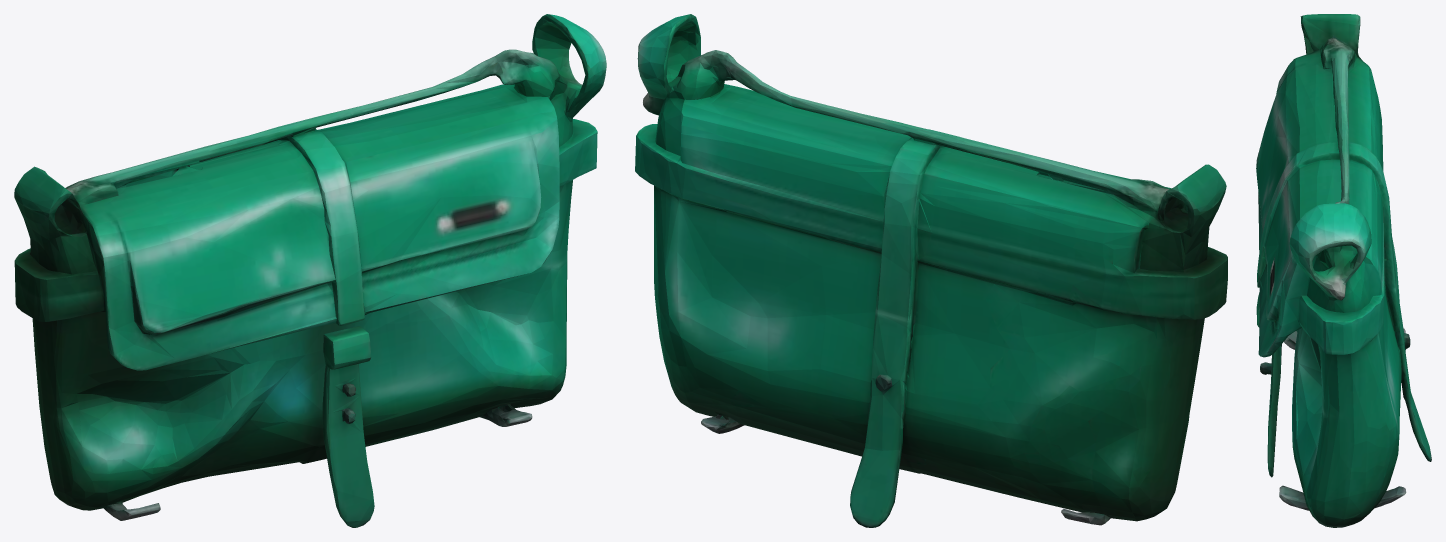
3 renders of one model, left to right at view 1: azimuth 30°, elevation 25°; view 2: azimuth 150°, elevation 25°; view 3: azimuth 270°, elevation 25°, orthographic. The views are drawn at different scales.
Parts seen in each view (by area): view 1: geometry_0; view 2: geometry_0; view 3: geometry_0.
Part boxes in pixels (x1,y1,x2,y2): geometry_0: (14, 14, 606, 527); geometry_0: (635, 14, 1227, 527); geometry_0: (1256, 14, 1431, 527).
Bounding box in the file's own units: 0.9962 × 0.7058 × 0.3016.
1 material, 1 textured.
